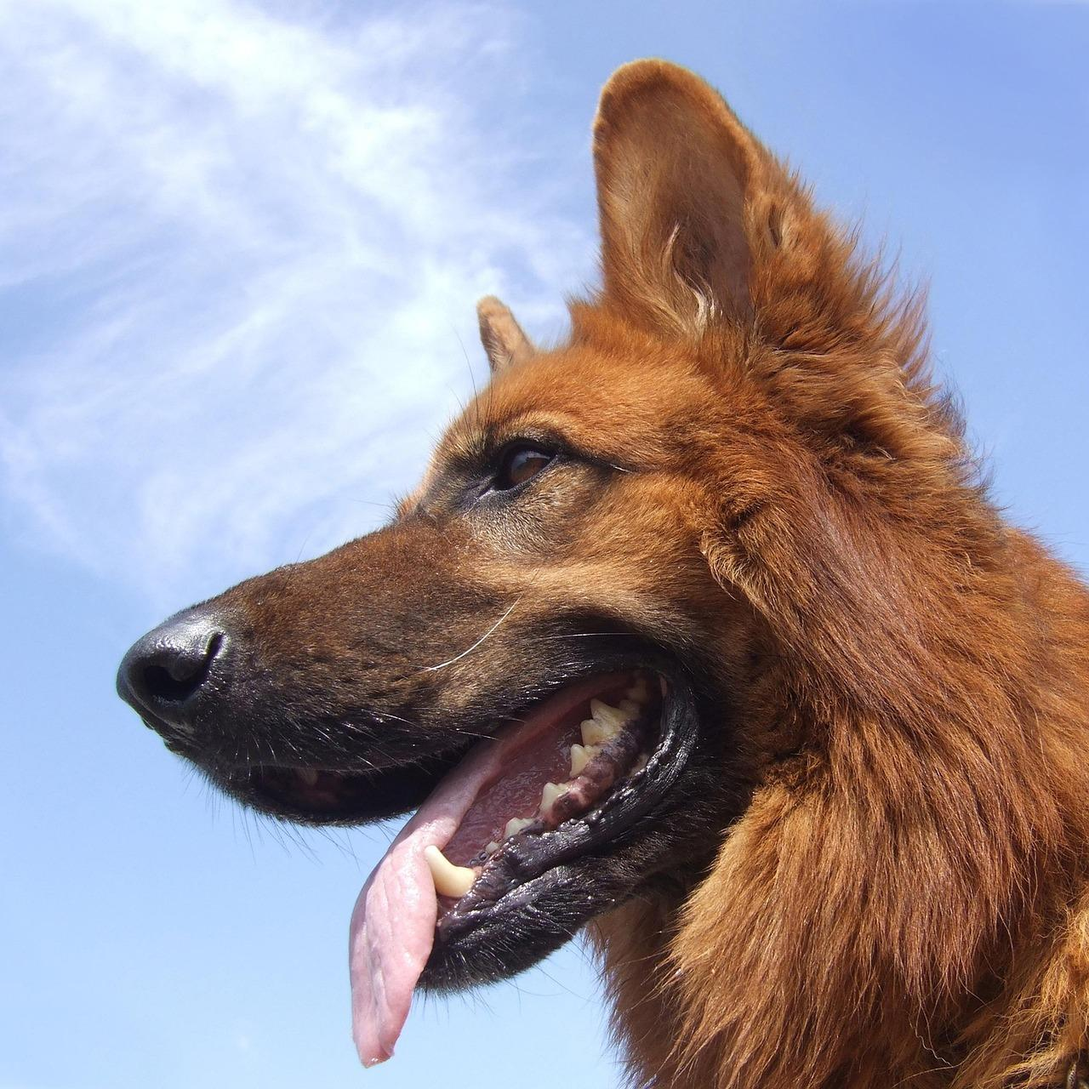german_shepherd: (105, 138, 958, 1038)
